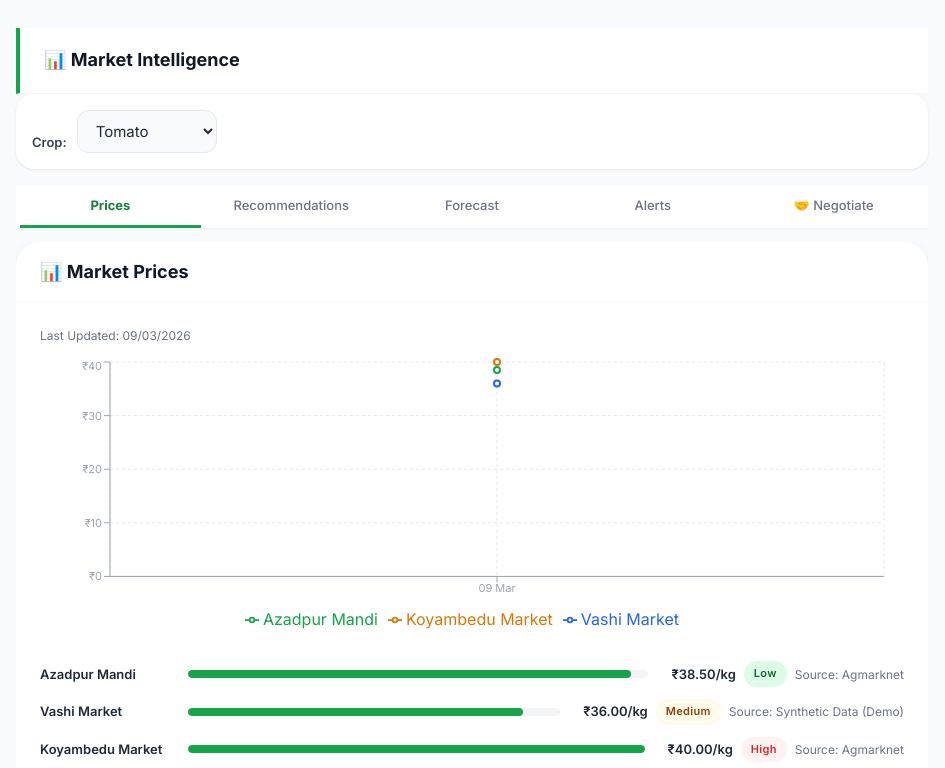
Test: MarketIntelligencePage › displays price forecast with confidence interval and methodology
This screenshot has width=945, height=768.
Click the button with test id "tab-forecast" at (472, 206), box [382, 185, 562, 228]
(page scrolled)
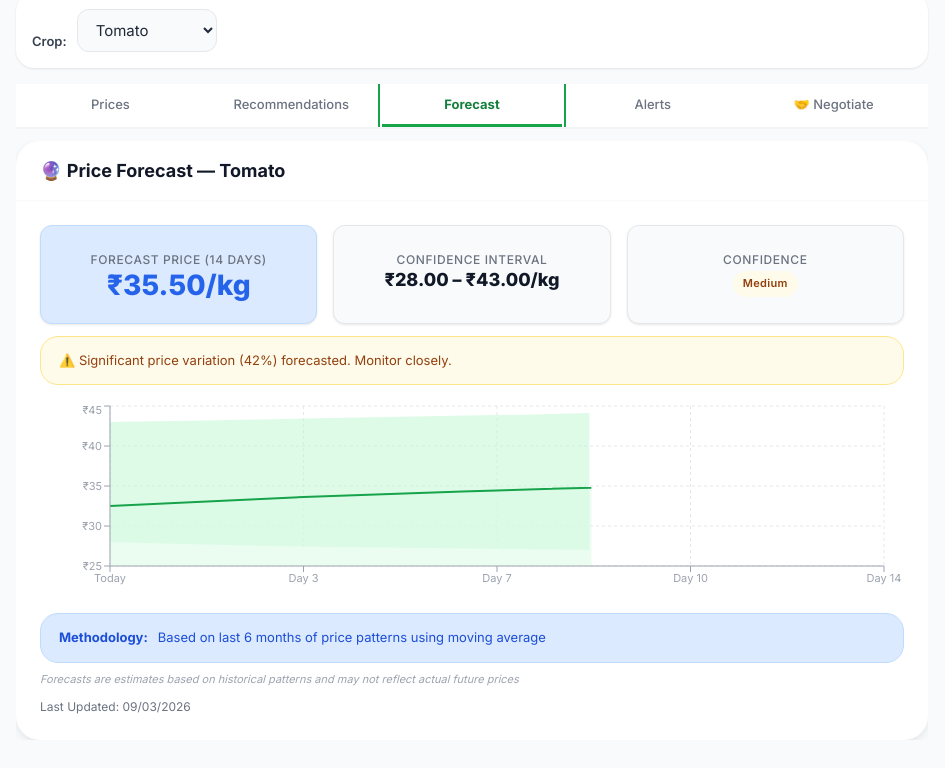
Result: the element with test id "price-forecast" is shown
Result: the text "₹35.50/kg" is shown at [107, 268, 250, 302]
Result: the text "₹28.00 – ₹43.00/kg" is shown at [384, 269, 560, 290]
